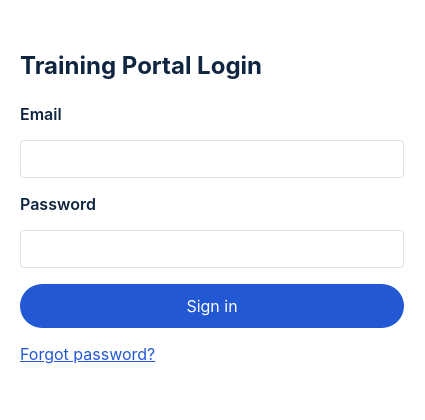
Test: LoginForm › shows an error when sign-in fails
In the field labelled "Email": [212, 158] box [20, 140, 404, 178], type "trainee@example.com"
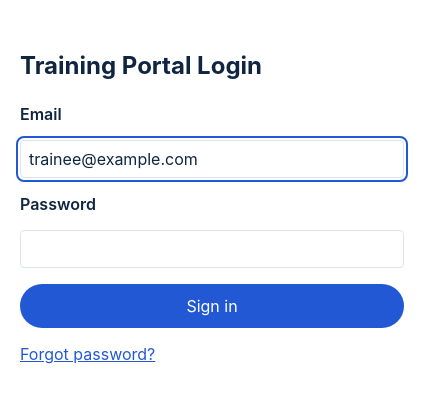
In the password field labelled "Password": [212, 248] box [20, 230, 404, 268], type "wrong"
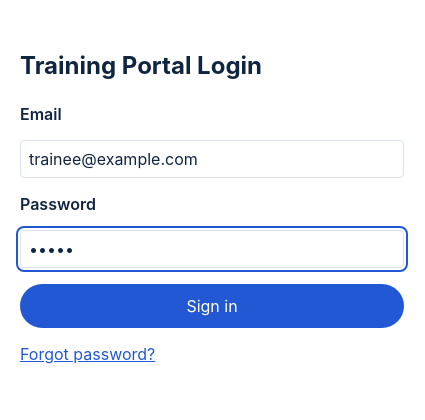
Click the button "Sign in": [212, 306] box [20, 284, 404, 328]
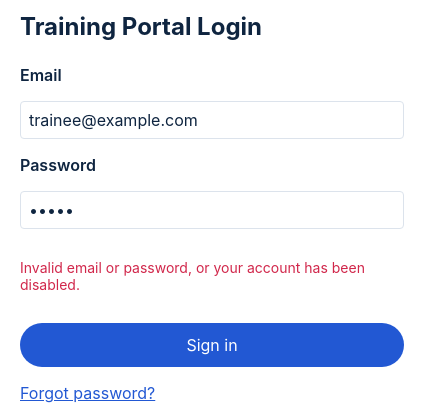
Result: the message shows "Invalid email or password" at [20, 258, 365, 292]
